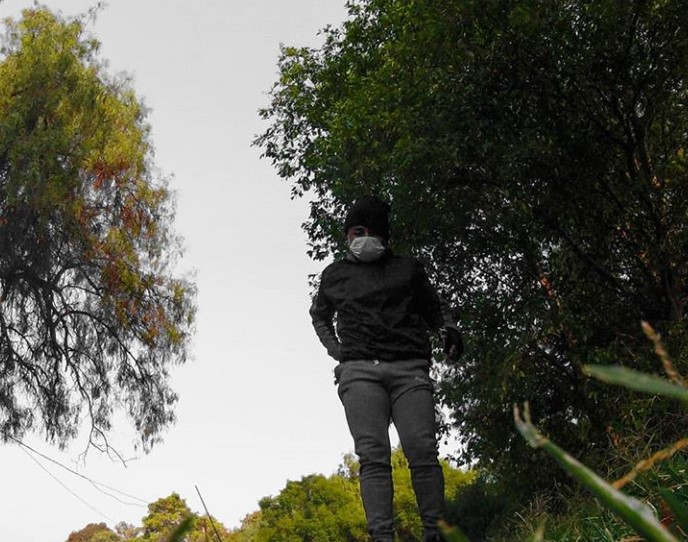face_with_mask: (342, 196, 394, 264)
